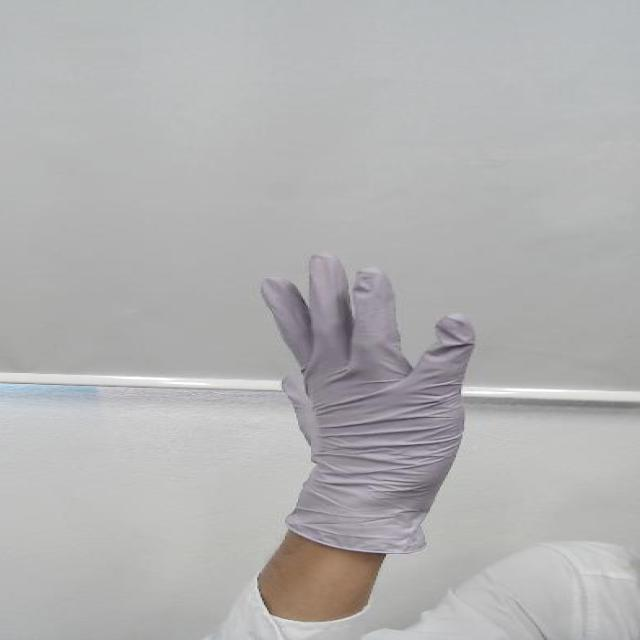glove: (245, 243, 514, 523)
